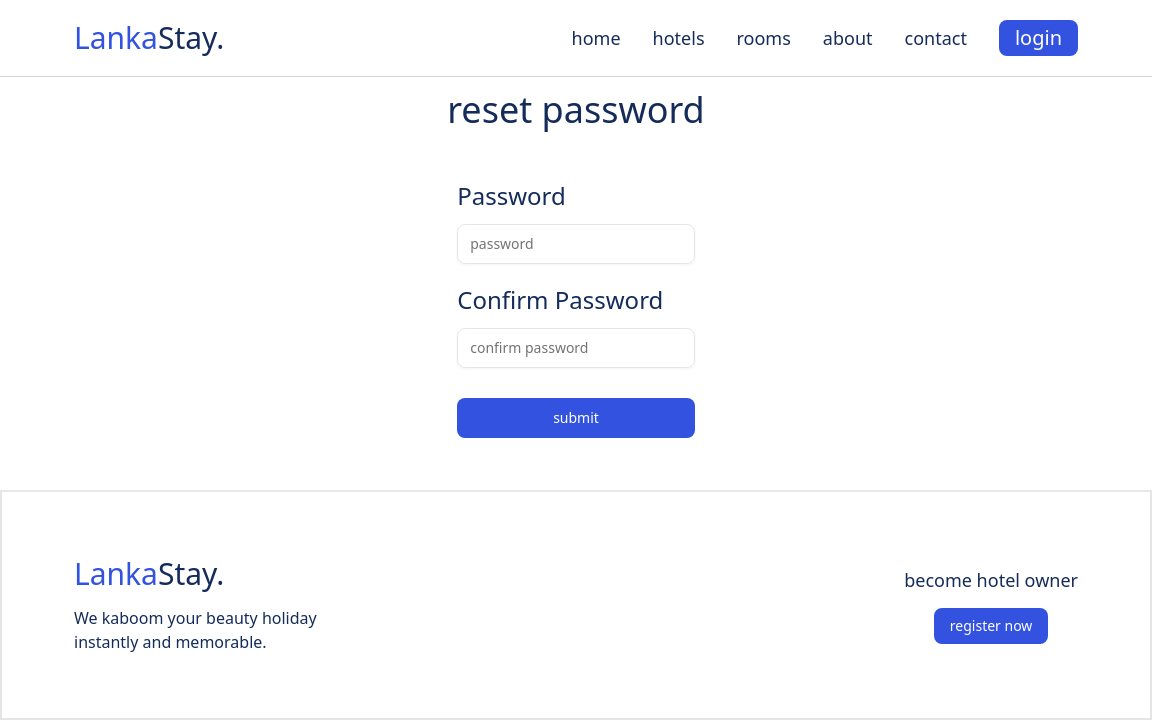
Test: reset password page › should show a success message
The width and height of the screenshot is (1152, 720).
Type "password" into the password field labelled "password" at (576, 244), box [457,224,695,264]
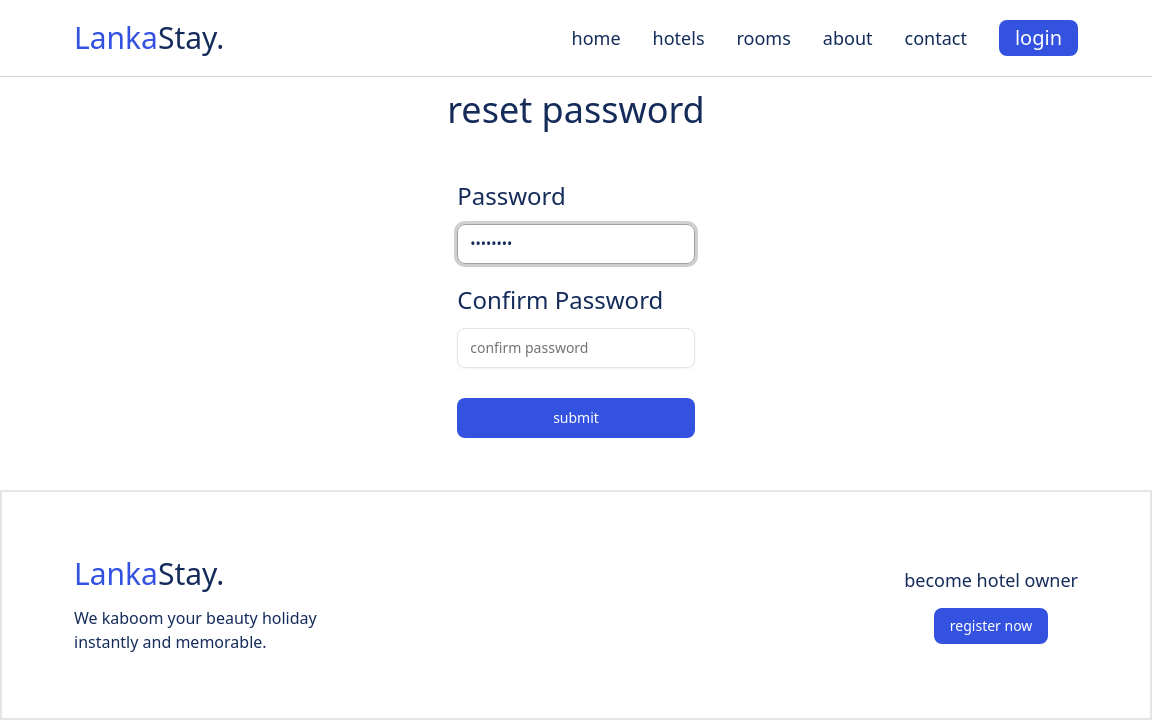
Type "password" into the password field labelled "confirm password" at (576, 348), box [457,328,695,368]
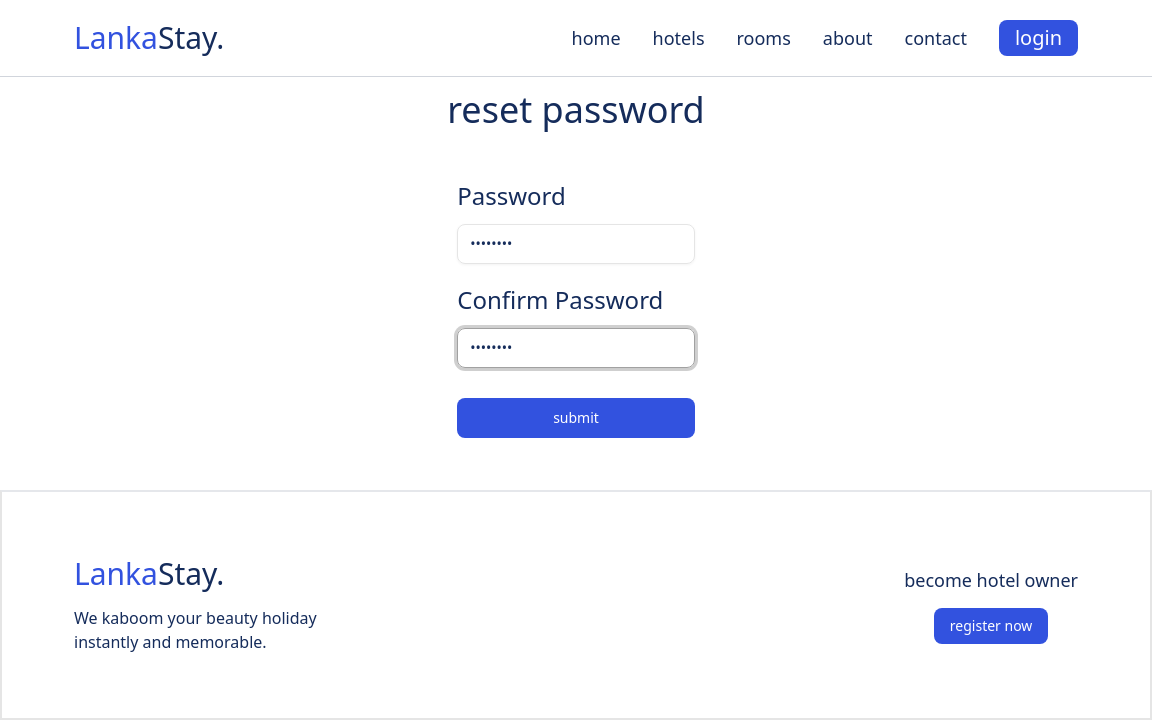
Click the button "submit" at (576, 418), box [457,398,695,438]
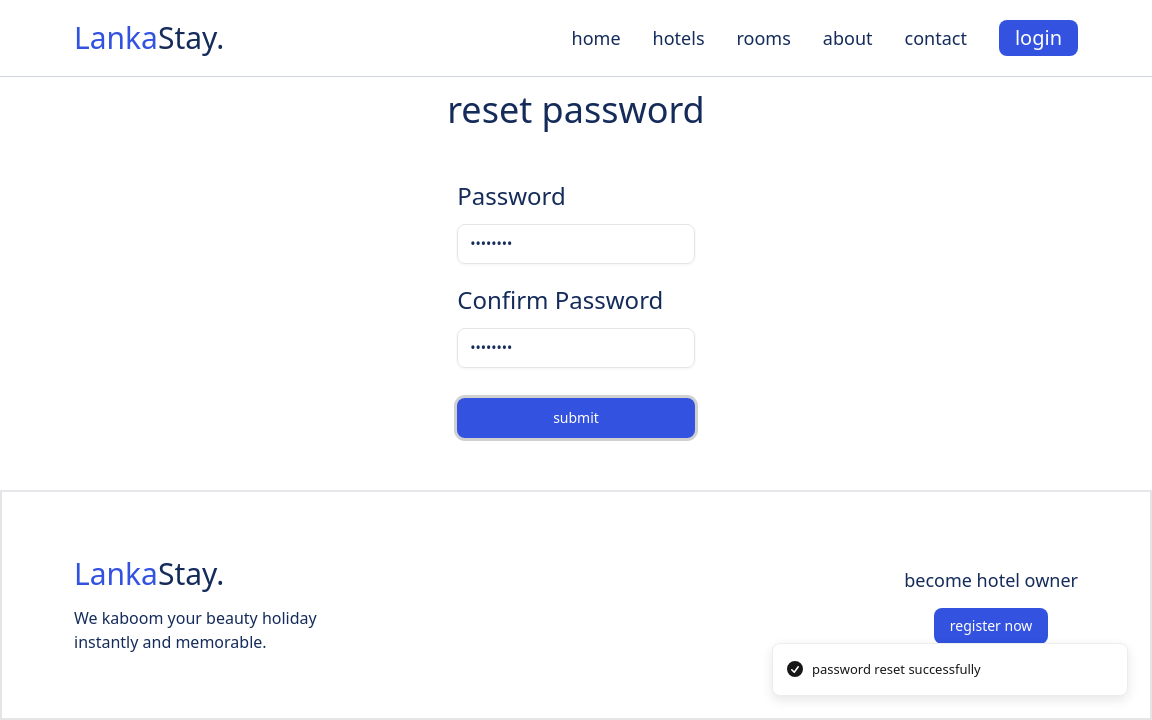
Check: the text "password reset successfully" is shown, box [812,660,981,679]
